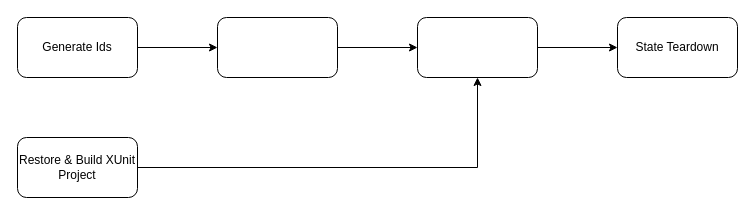
Some shapes in this 755 by 215 pixel diagram are drawn without their labels. Here are the shapes that lost their labels. From the top down, the centre of each, then its label:
At (x=277, y=47): "State Setup".
At (x=477, y=47): "Run Selenium Scripts".
